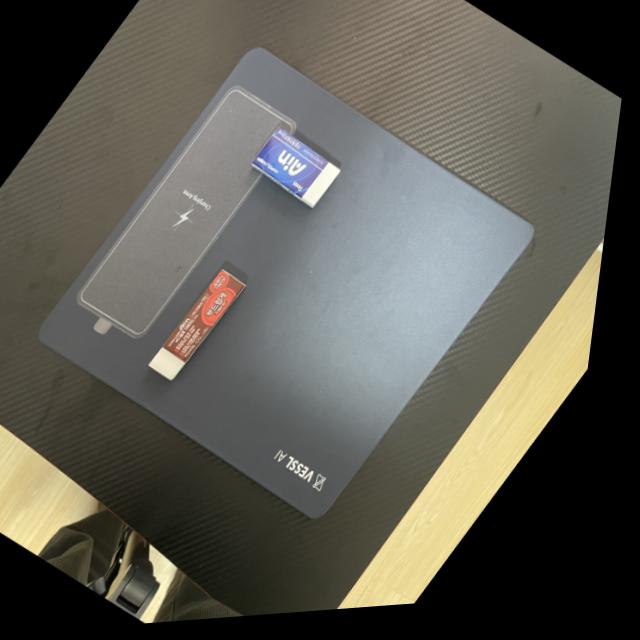blue: (236, 117, 362, 230)
red: (146, 257, 267, 396)
